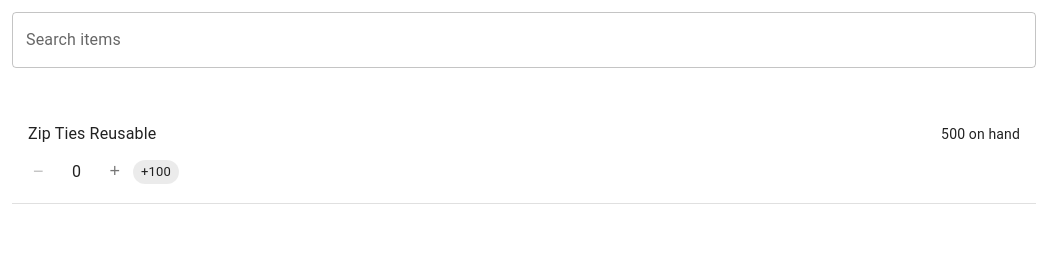
Scenario: adding to the batch › lets the quantity be corrected in one tap
Expected: the heading "Zip Ties Reusable" is shown, [28,120,156,148]
Click the button named "Add one Zip Ties Reusable" at (115, 172), box [104,156,125,187]
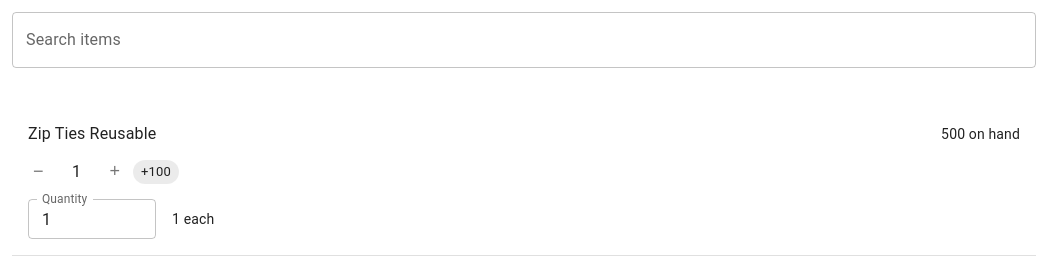
Replace the text in the field named "quantity of zip ties reusable" with "7" at (92, 219), box [28,199,156,239]
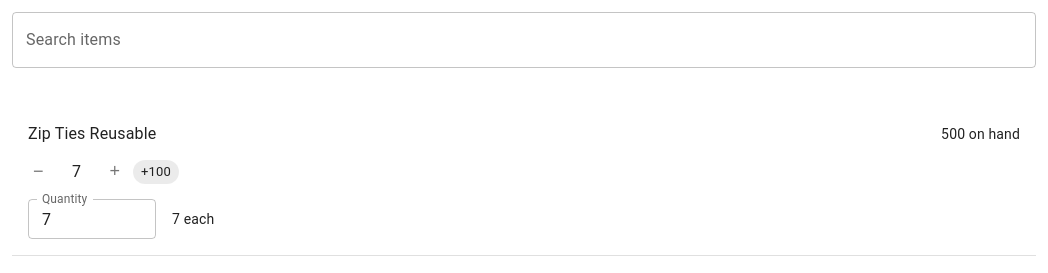
Now the text "7 each" is shown, box [172,209,214,229]
